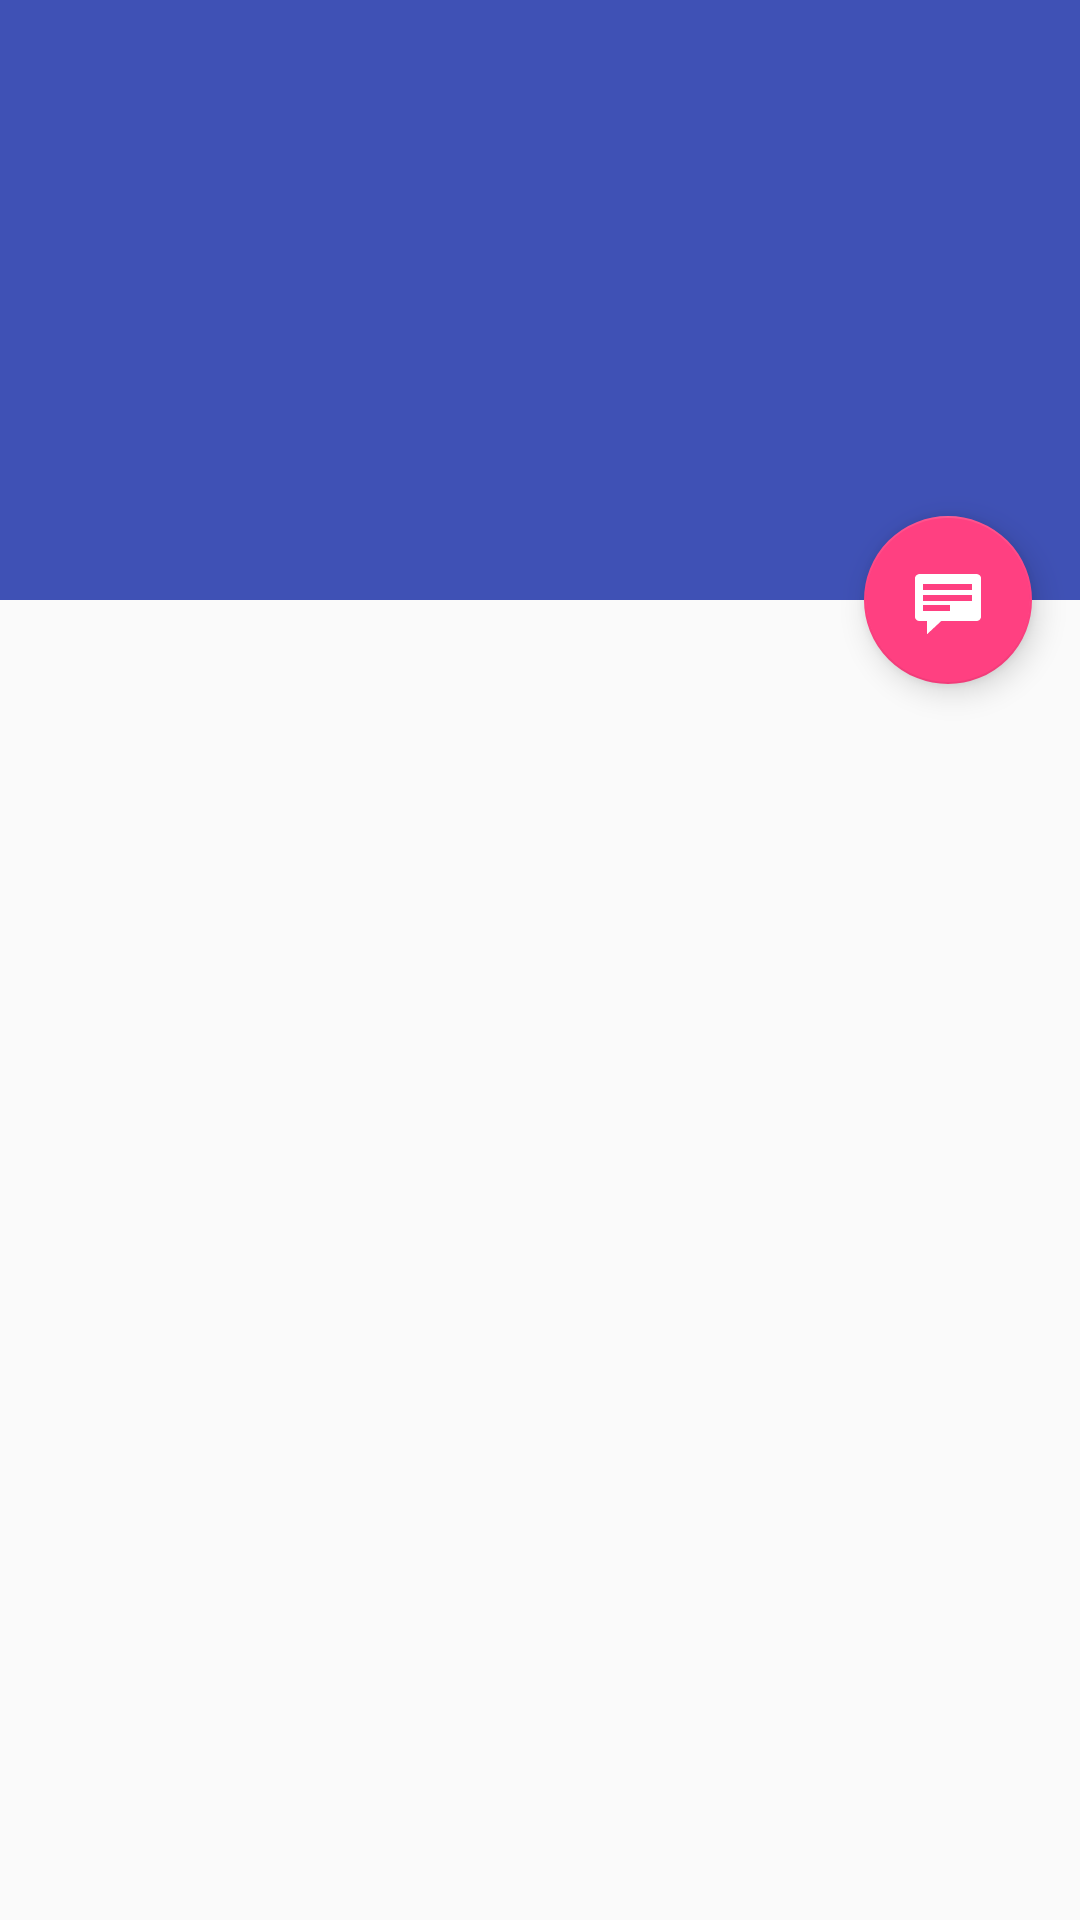

Screen size 1080px x 1920px. Icon name, then its center in pixels as (x=x, y=y):
chat: (x=948, y=600)
